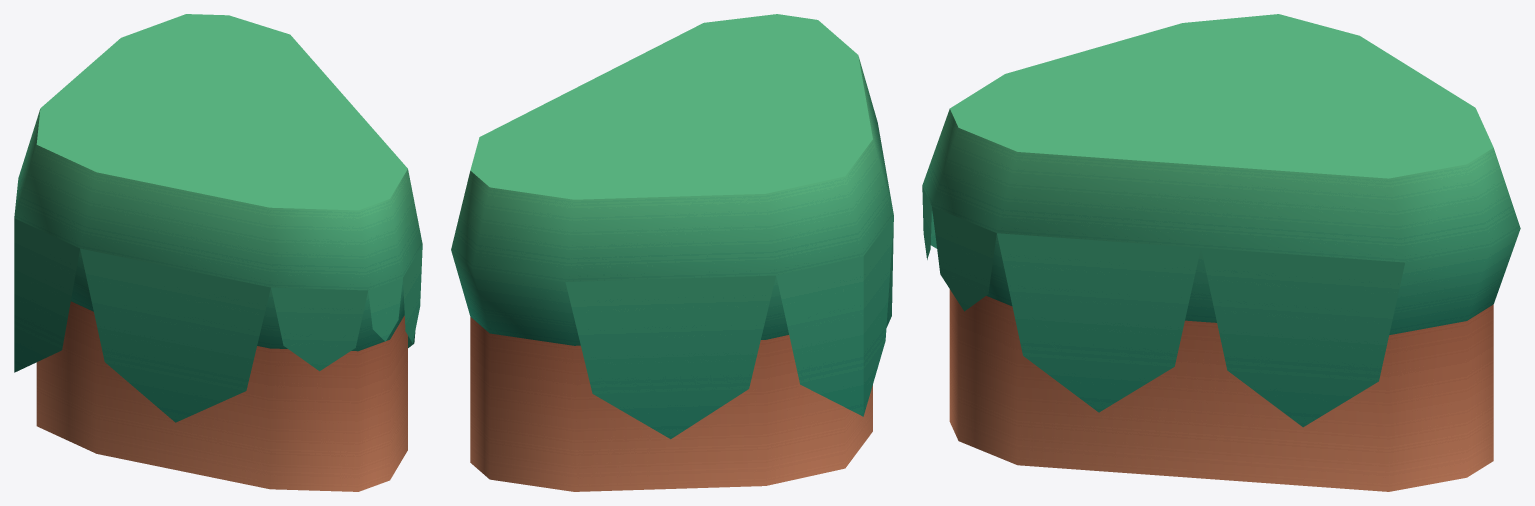
File: block-grass-corner-overhang-low.006_lev2.glb
3 views of the same model, side by side, from view 1: azimuth 30°, elevation 25°; view 2: azimuth 150°, elevation 25°; view 3: azimuth 270°, elevation 25° (orthographic). The views are drawn at different scales.
Visible parts, largest first — view 1: block-grass-corner-overhang-low.006_lev2; view 2: block-grass-corner-overhang-low.006_lev2; view 3: block-grass-corner-overhang-low.006_lev2.
Part boxes in pixels (x1=…): block-grass-corner-overhang-low.006_lev2: x1=14, y1=14, x2=422, y2=491; block-grass-corner-overhang-low.006_lev2: x1=451, y1=14, x2=893, y2=491; block-grass-corner-overhang-low.006_lev2: x1=922, y1=14, x2=1520, y2=491.
Bounding box in the file's own units: 1.4 × 1.13 × 1.96.
1 material, 1 textured.
